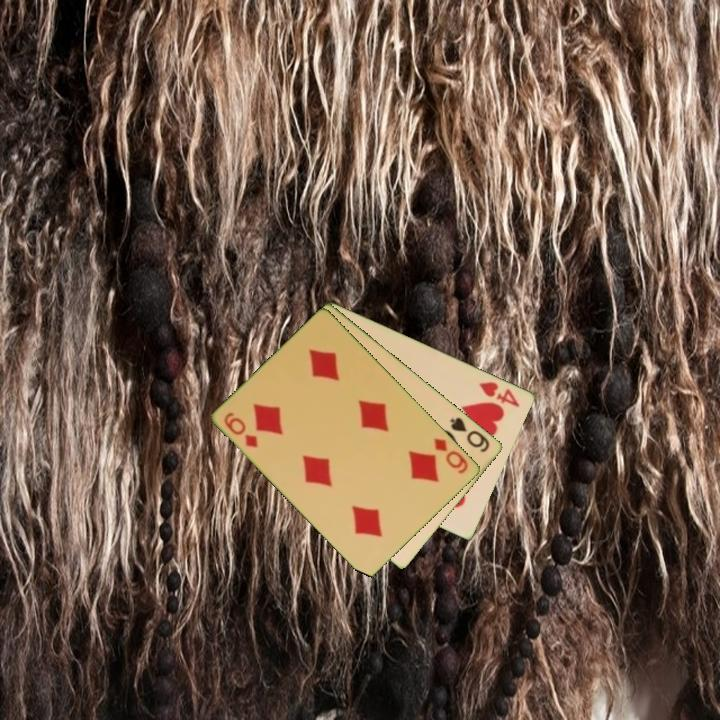4h: (476, 378, 523, 410)
6d: (431, 434, 472, 476), (221, 409, 261, 451)
6s: (447, 413, 493, 455)
